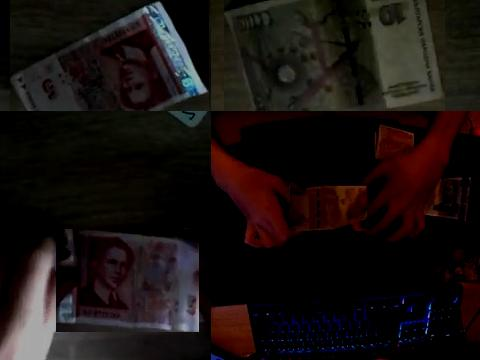10leva: (224, 0, 445, 111)
50leva: (290, 183, 367, 231)
5leva: (10, 0, 209, 111), (56, 229, 199, 332)
